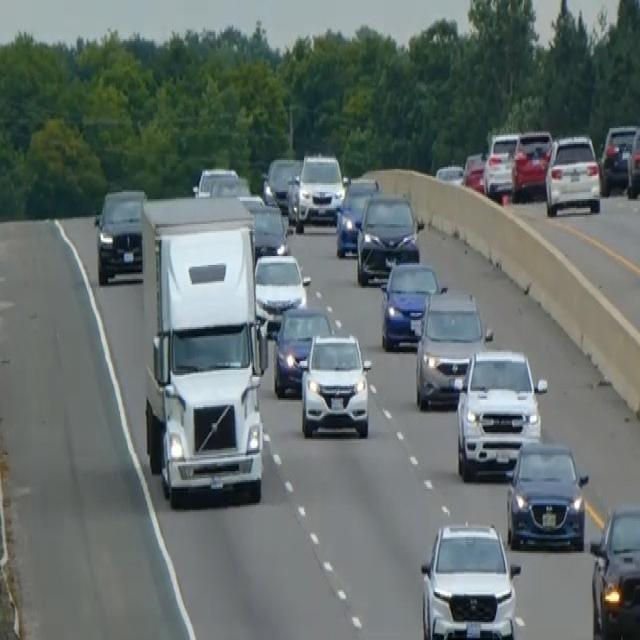car: (455, 347, 547, 480), (419, 519, 520, 638), (414, 284, 493, 409), (505, 437, 588, 551), (299, 329, 372, 439), (589, 503, 639, 638), (272, 303, 337, 397), (355, 190, 419, 284), (379, 258, 441, 350), (94, 185, 146, 284), (544, 131, 601, 217), (253, 251, 310, 334), (294, 151, 344, 229), (335, 174, 379, 258), (240, 196, 288, 260), (511, 128, 552, 201), (599, 122, 639, 196), (482, 130, 519, 201), (263, 155, 301, 213), (192, 164, 248, 199), (462, 149, 486, 194), (626, 125, 639, 198), (435, 162, 464, 185)
lorry: (138, 194, 268, 506)
